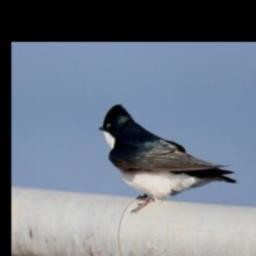Swallow: (99, 103, 238, 214)
